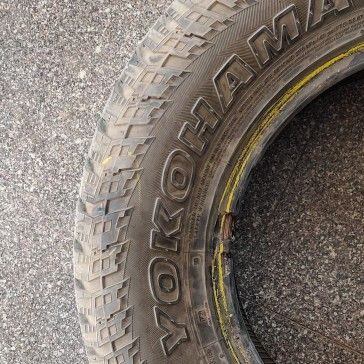bead_damage: (205, 201, 241, 314)
